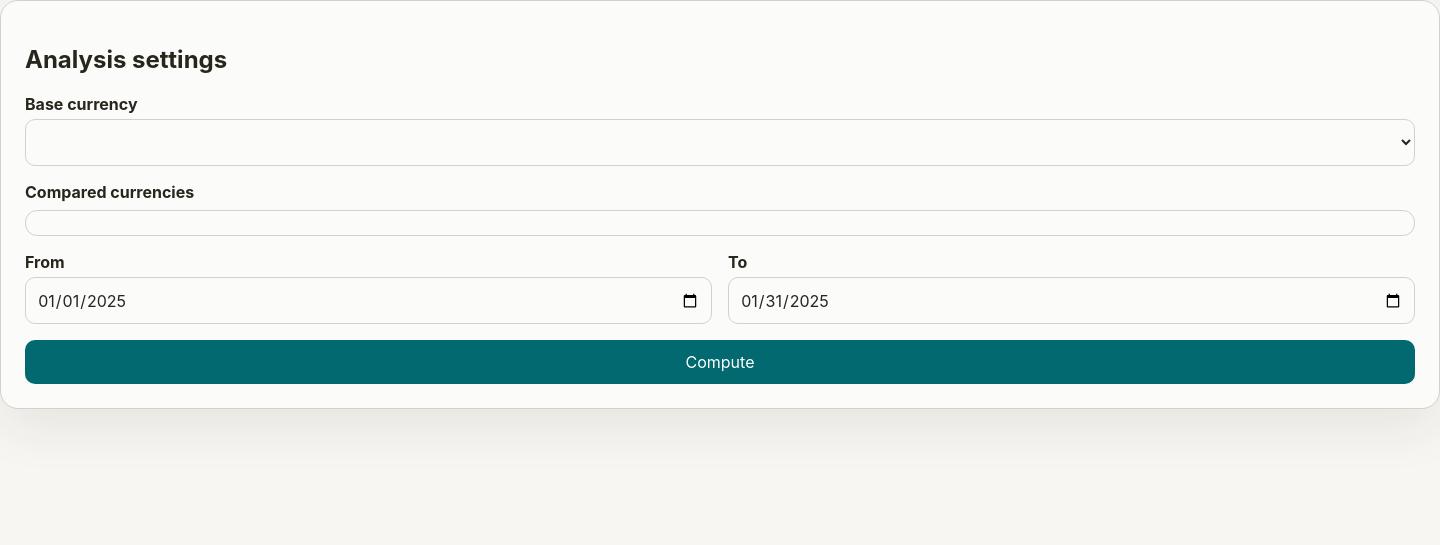
Scenario: AnalysisForm › shows translated rate limit error on 429
The width and height of the screenshot is (1440, 545).
Click the button "Compute": x=720, y=362 [25,340,1415,384]
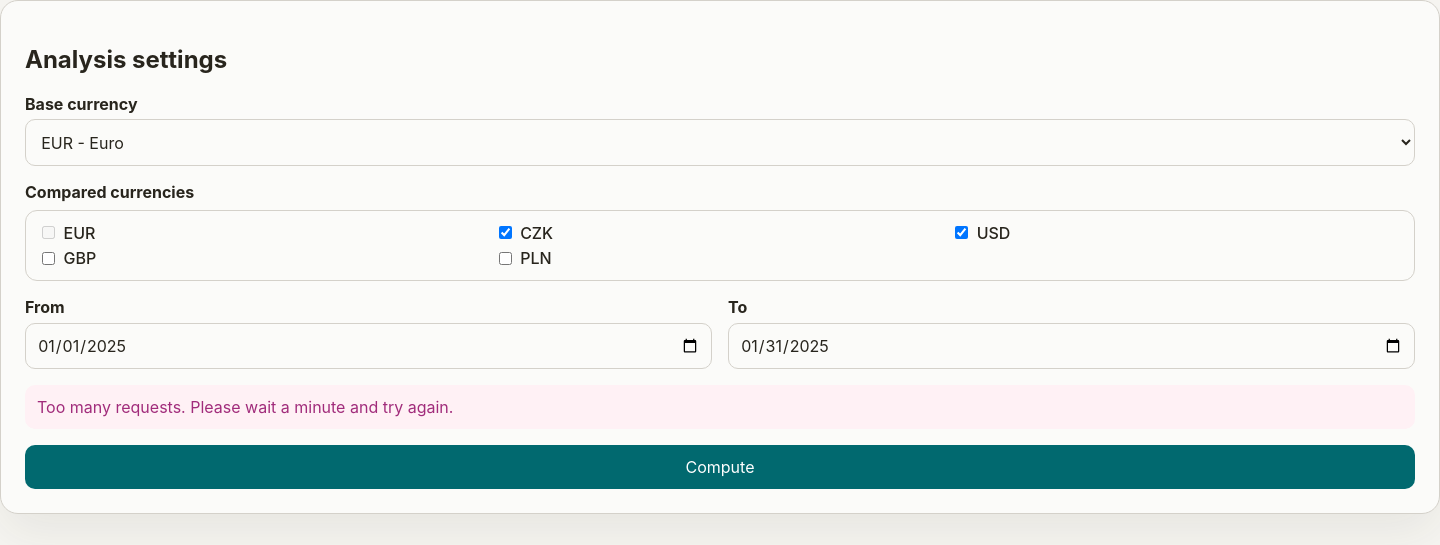
Check: the text "Too many requests. Please wait a minute and try again." is shown, box [25,385,1415,429]
